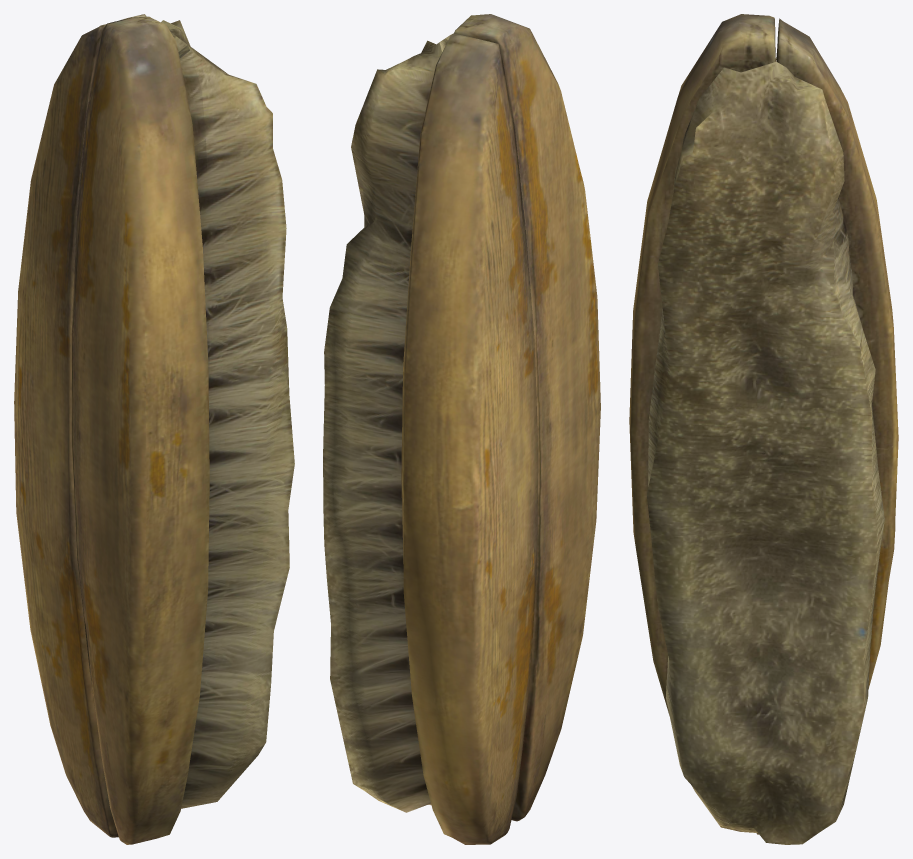
The model's file is brush.fbx.
The picture shows the model from 3 angles, left to right: view 1: azimuth 30°, elevation 25°; view 2: azimuth 150°, elevation 25°; view 3: azimuth 270°, elevation 25°; orthographic projection.
Parts seen in each view (by area): view 1: Object_2; view 2: Object_2; view 3: Object_2.
Boxes of the visible parts, bbox=[...] form: Object_2: bbox=[14, 14, 294, 844]; Object_2: bbox=[323, 14, 600, 844]; Object_2: bbox=[629, 14, 898, 844].
Size of the model in its own units: 75.91 by 343 by 104.
Materials: 1 (1 with a texture image).
